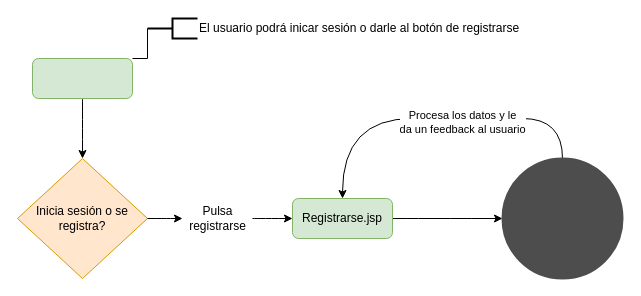
Image size: 641x296. Some labels were removed from this diagram. Here are the shapes that lost their labels. From the top down, the box of each, then its label:
(32, 58, 132, 98): IniciarSesion.jsp
(501, 157, 623, 279): /ServletRegistrarse
